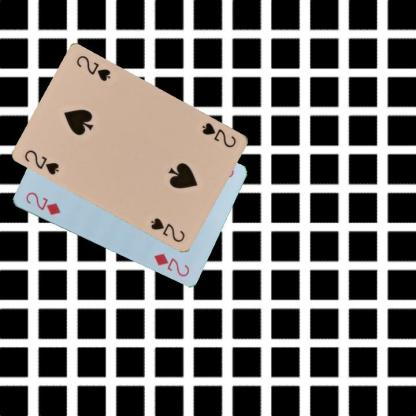2d: (22, 190, 62, 216)
2s: (22, 147, 61, 176), (200, 120, 238, 149)
